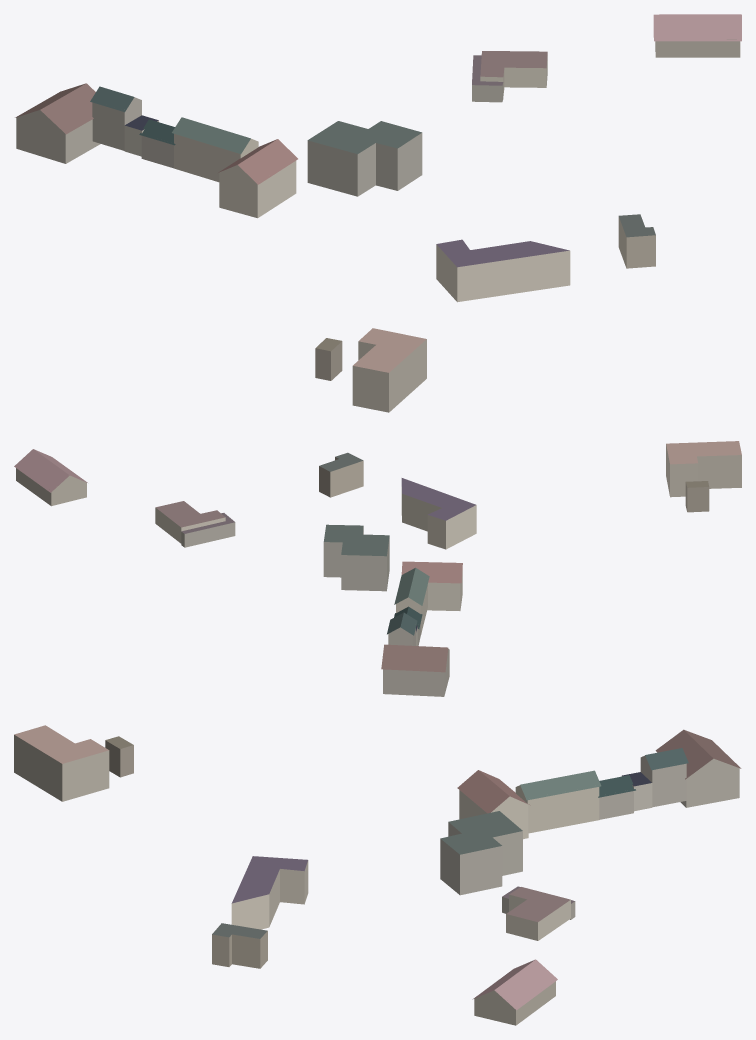
3 renders of one model, top to bottom at view 1: azimuth 30°, elevation 25°; view 2: azimuth 150°, elevation 25°; view 3: azimuth 270°, elevation 25°, orthographic. The views are drawn at different scales.
Visible parts, largest first — view 1: tuile; view 2: tuile; view 3: tuile.
Boxes of the visible parts, box(x1,y1,x2,y2) form: tuile: box(15, 14, 741, 412); tuile: box(14, 441, 741, 696); tuile: box(14, 725, 741, 1025).
Bounding box in the file's own units: 149 × 21.31 × 155.
